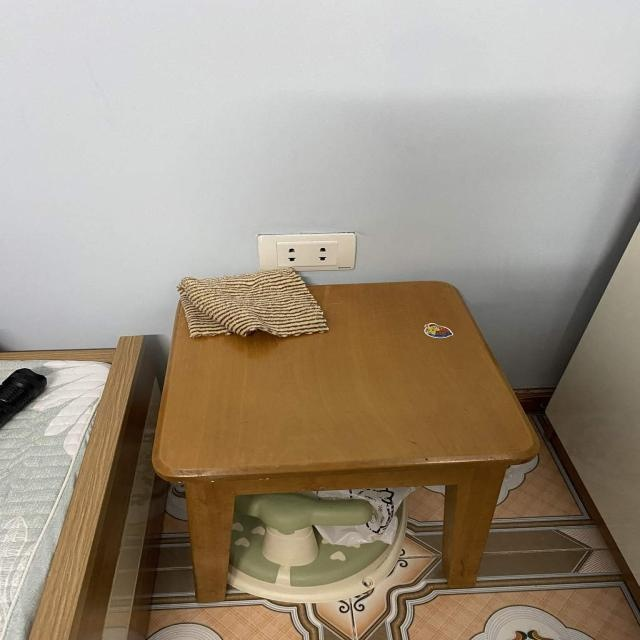outlet: (256, 232, 356, 272)
